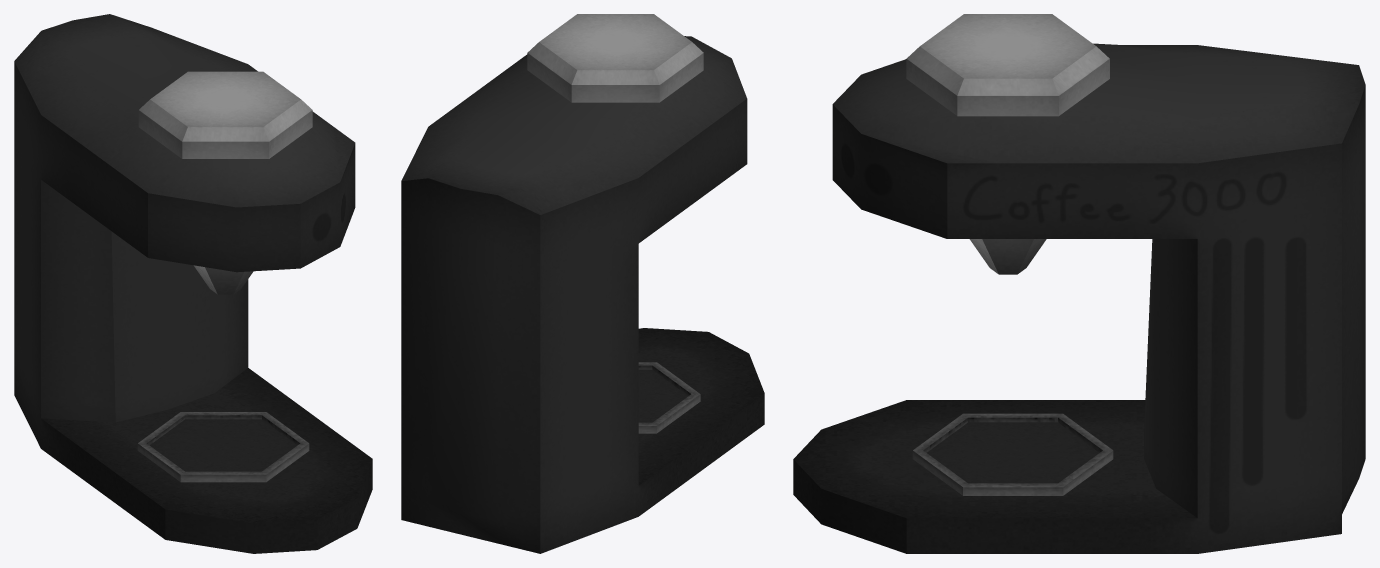
The model's file is coffe machine.fbx.
3 views of the same model, side by side, from view 1: azimuth 30°, elevation 25°; view 2: azimuth 150°, elevation 25°; view 3: azimuth 270°, elevation 25° (orthographic). The views are drawn at different scales.
Visible parts, largest first — view 1: Cube; view 2: Cube; view 3: Cube.
Boxes of the visible parts, left/top/right/bottom form: Cube: left=14, top=14, right=372, bottom=553; Cube: left=401, top=14, right=764, bottom=553; Cube: left=793, top=14, right=1365, bottom=553.
Bounding box in the file's own units: 129 × 227 × 263.
Materials: 1 (1 with a texture image).
